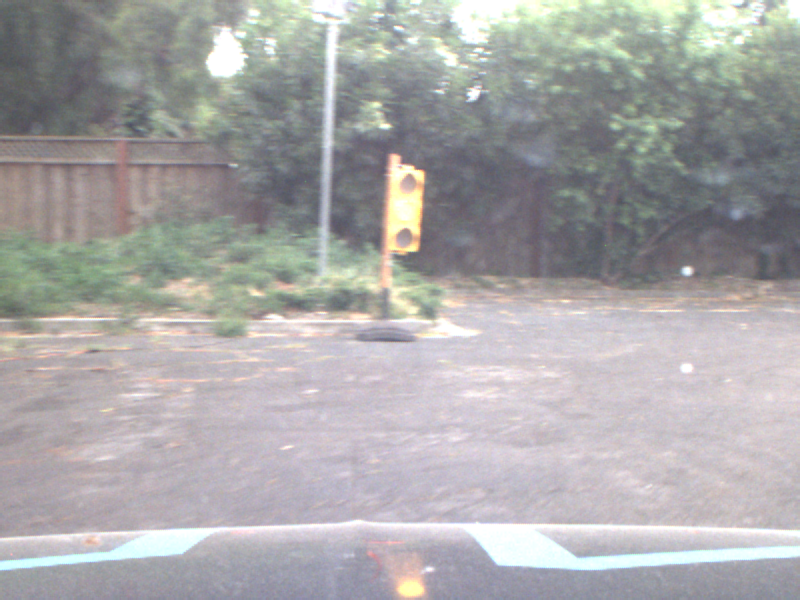Yellow: (389, 167, 422, 250)
